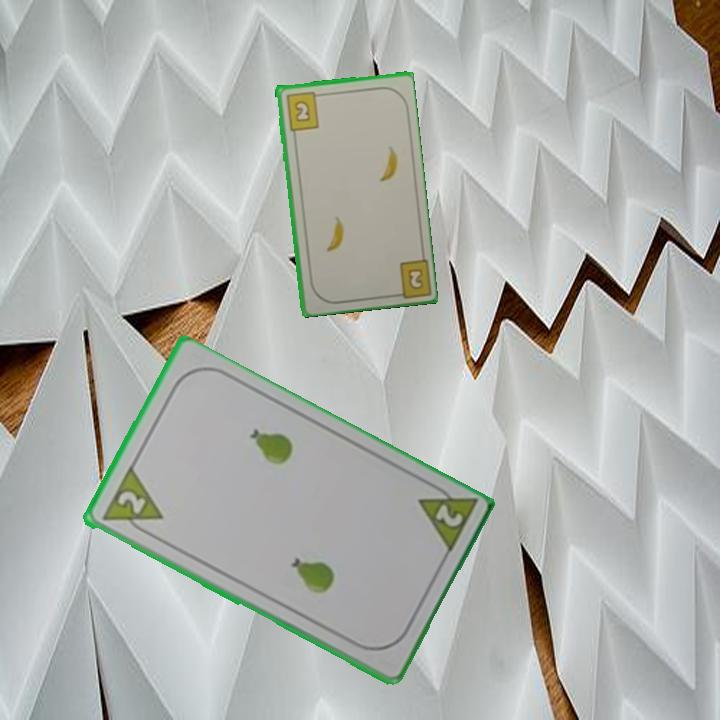2b: (388, 254, 432, 300), (282, 88, 324, 133)
2p: (97, 464, 166, 540), (430, 500, 466, 531)
